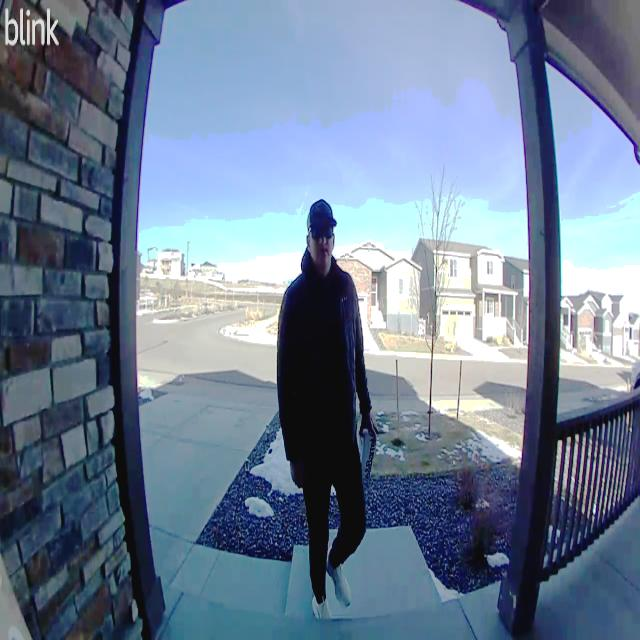Box: (357, 428, 379, 480)
